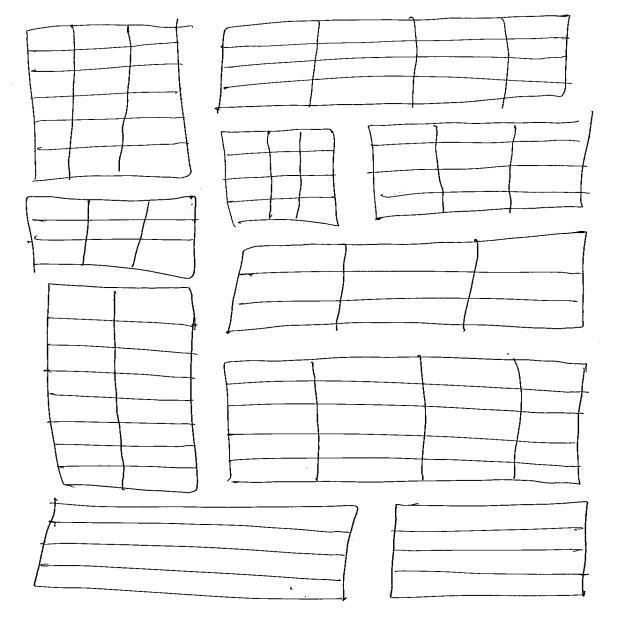table: (221, 357, 588, 487), (224, 230, 589, 335), (215, 14, 571, 112), (32, 501, 360, 602), (46, 283, 200, 494), (25, 21, 195, 184), (367, 120, 596, 222), (388, 500, 590, 600), (23, 195, 199, 282), (220, 127, 341, 229)
